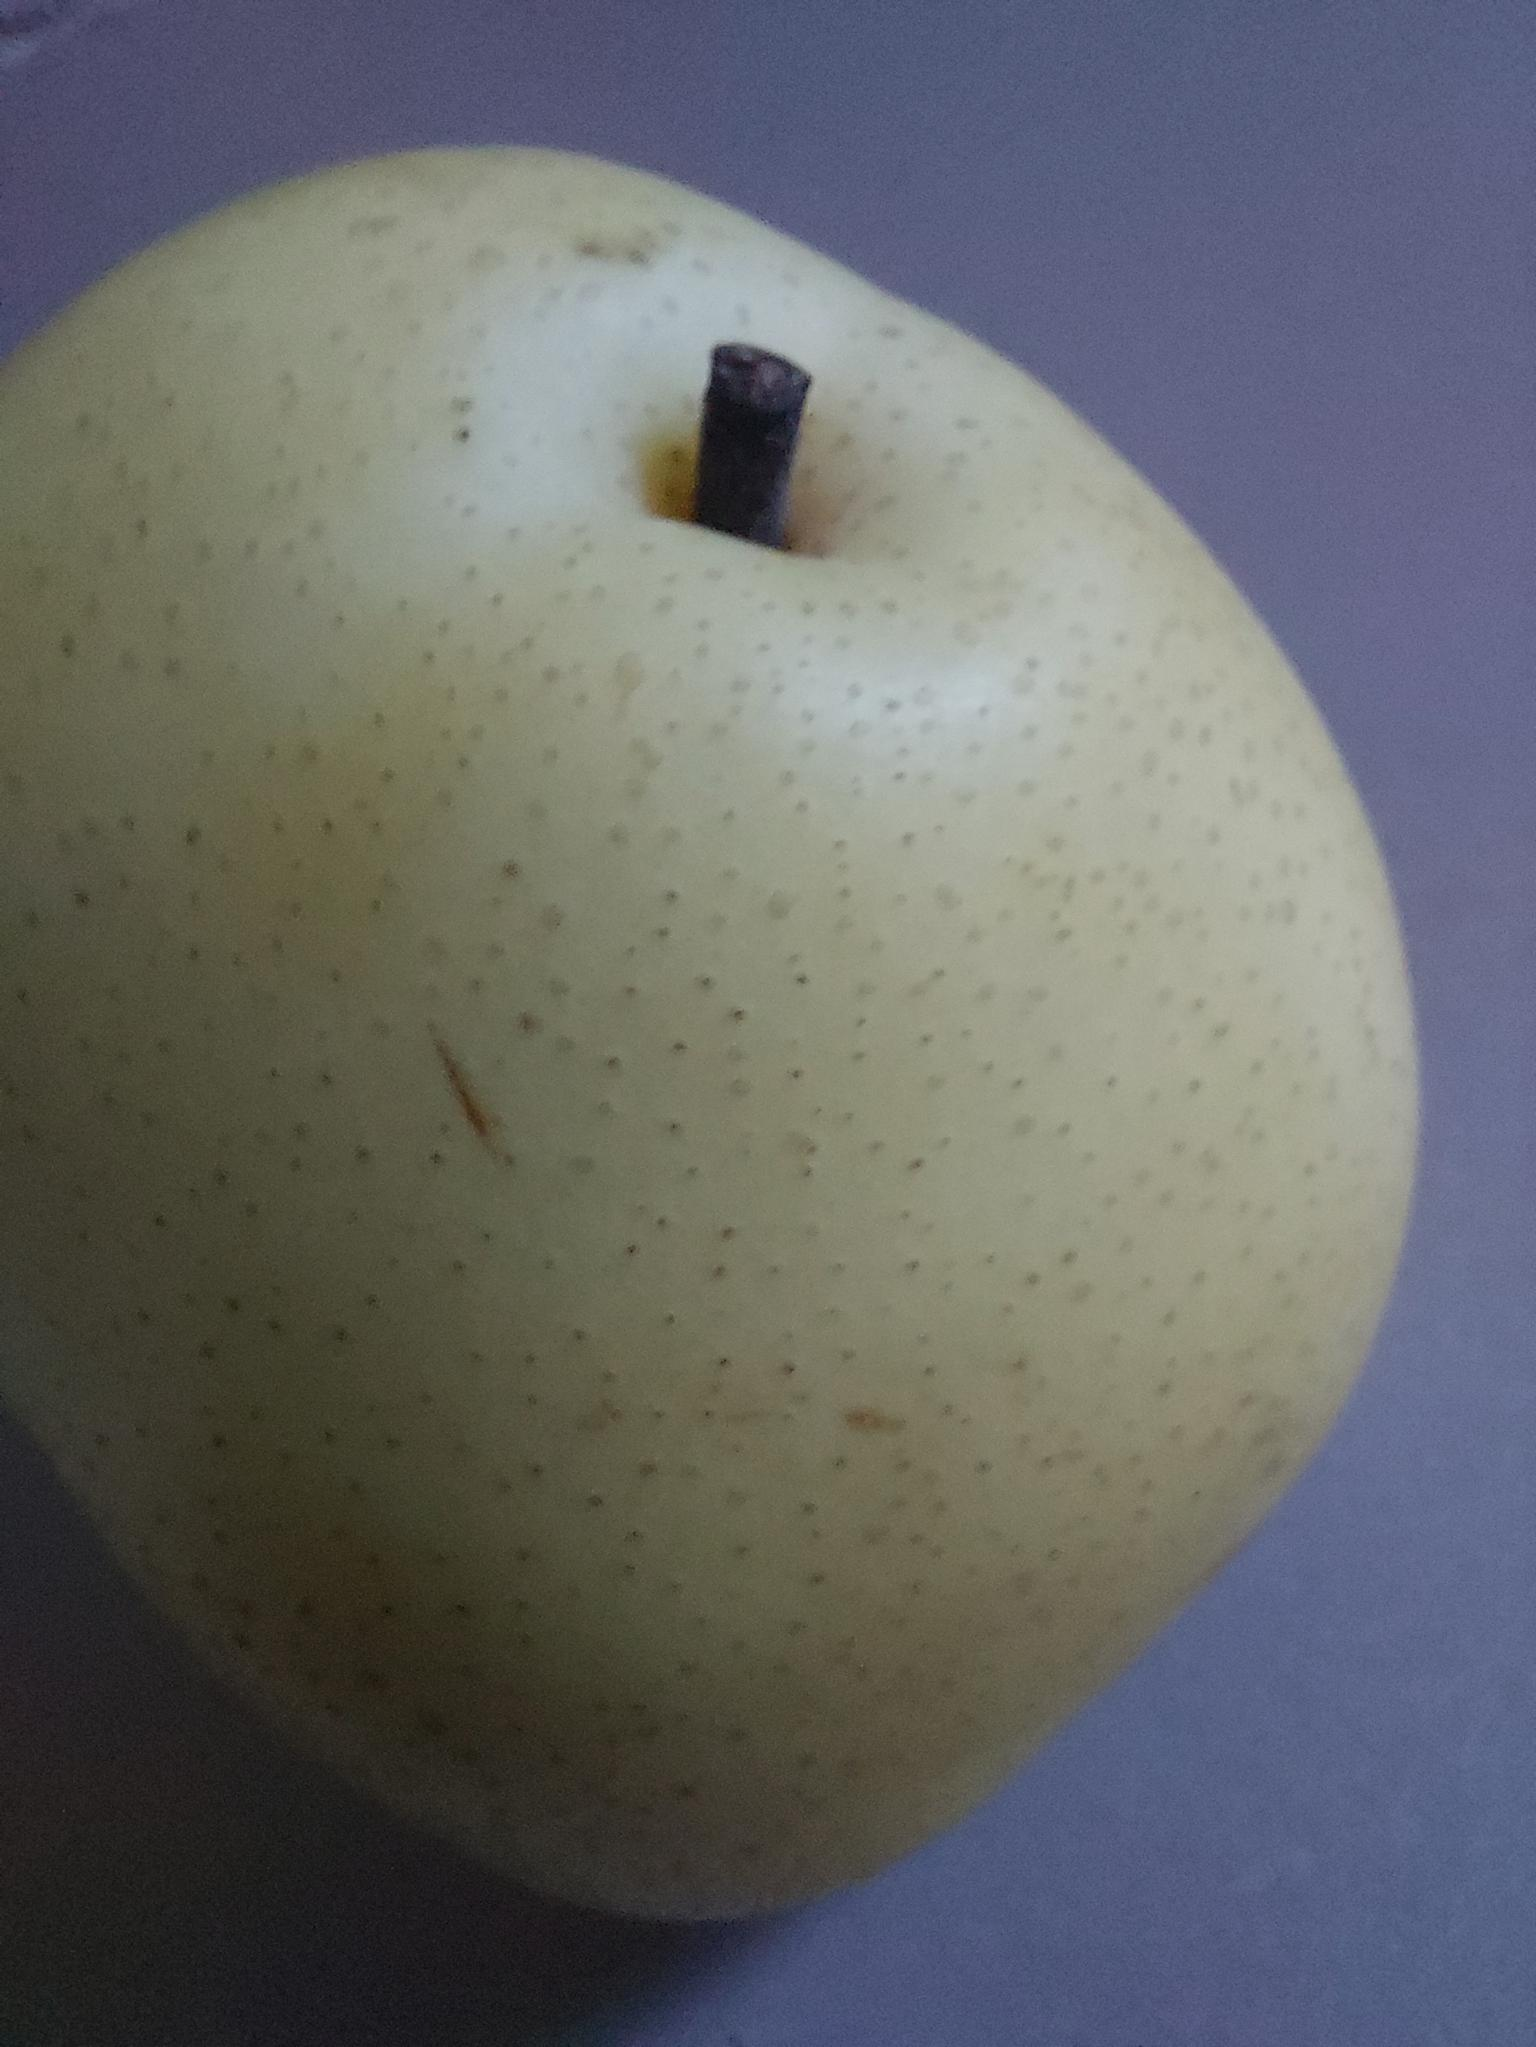Good Pear: (0, 34, 1536, 1999)
